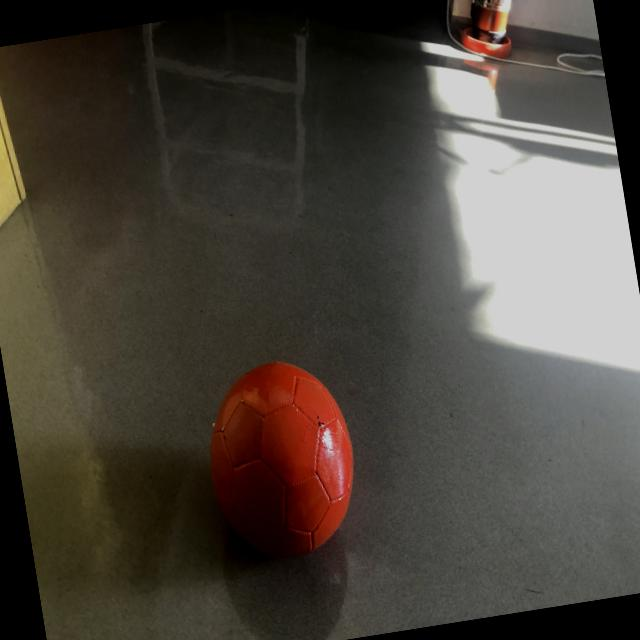red_ball: (197, 349, 366, 570)
